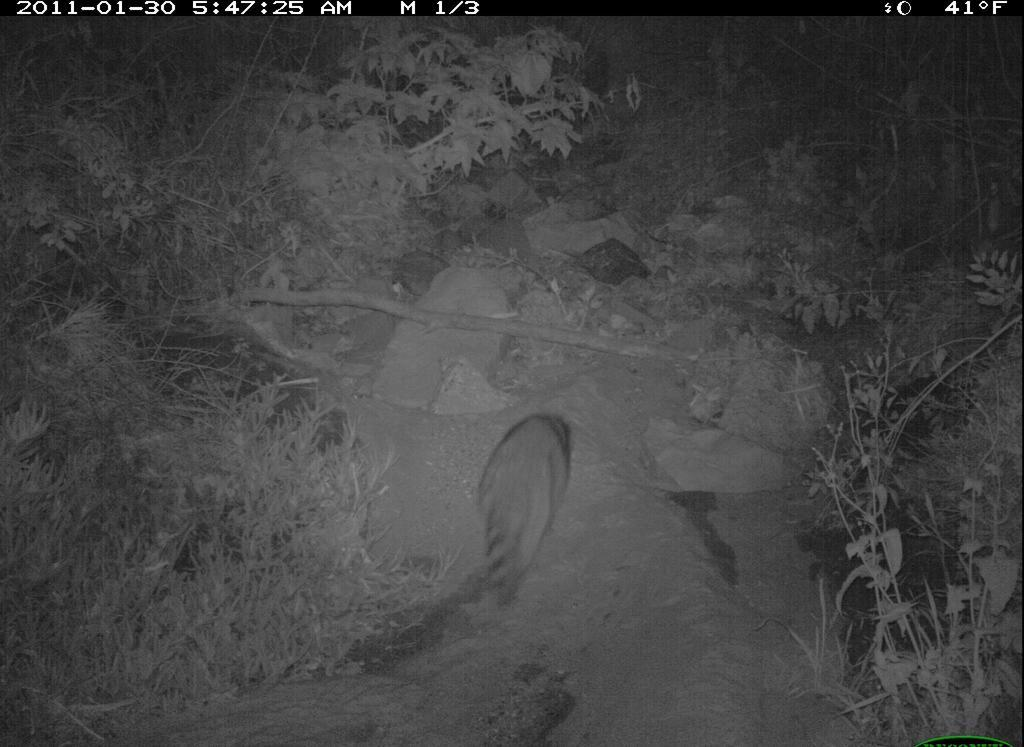raccoon: (447, 401, 602, 648)
